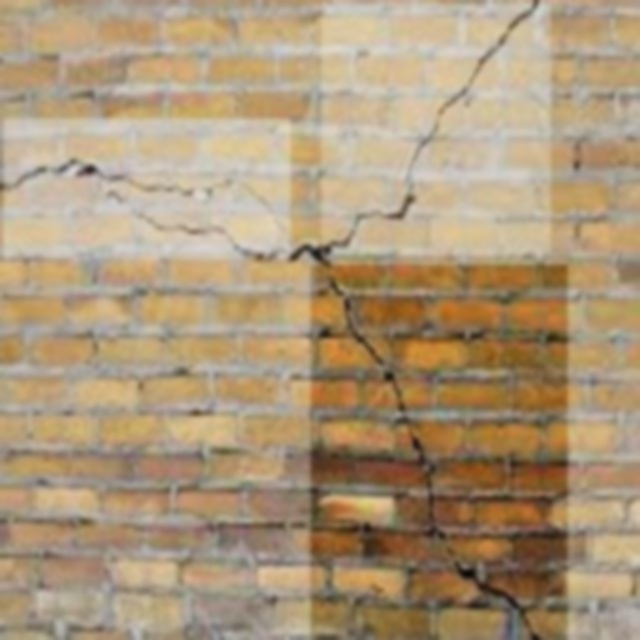SurfaceCrack: (320, 274, 562, 640), (316, 0, 546, 268), (6, 122, 302, 280)
